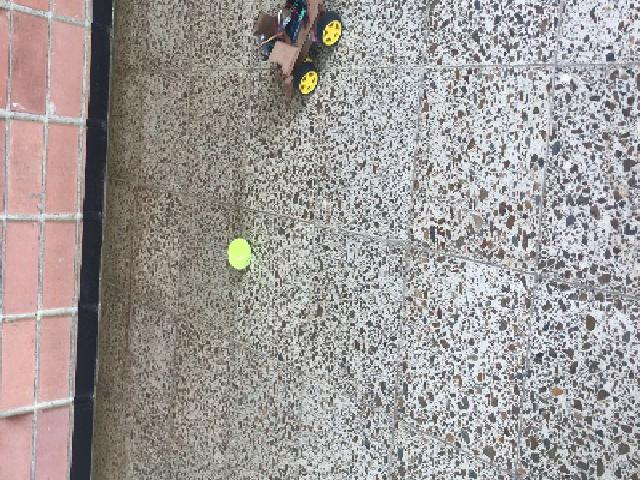Ball: (227, 239, 251, 269)
Robot: (251, 0, 342, 95)
